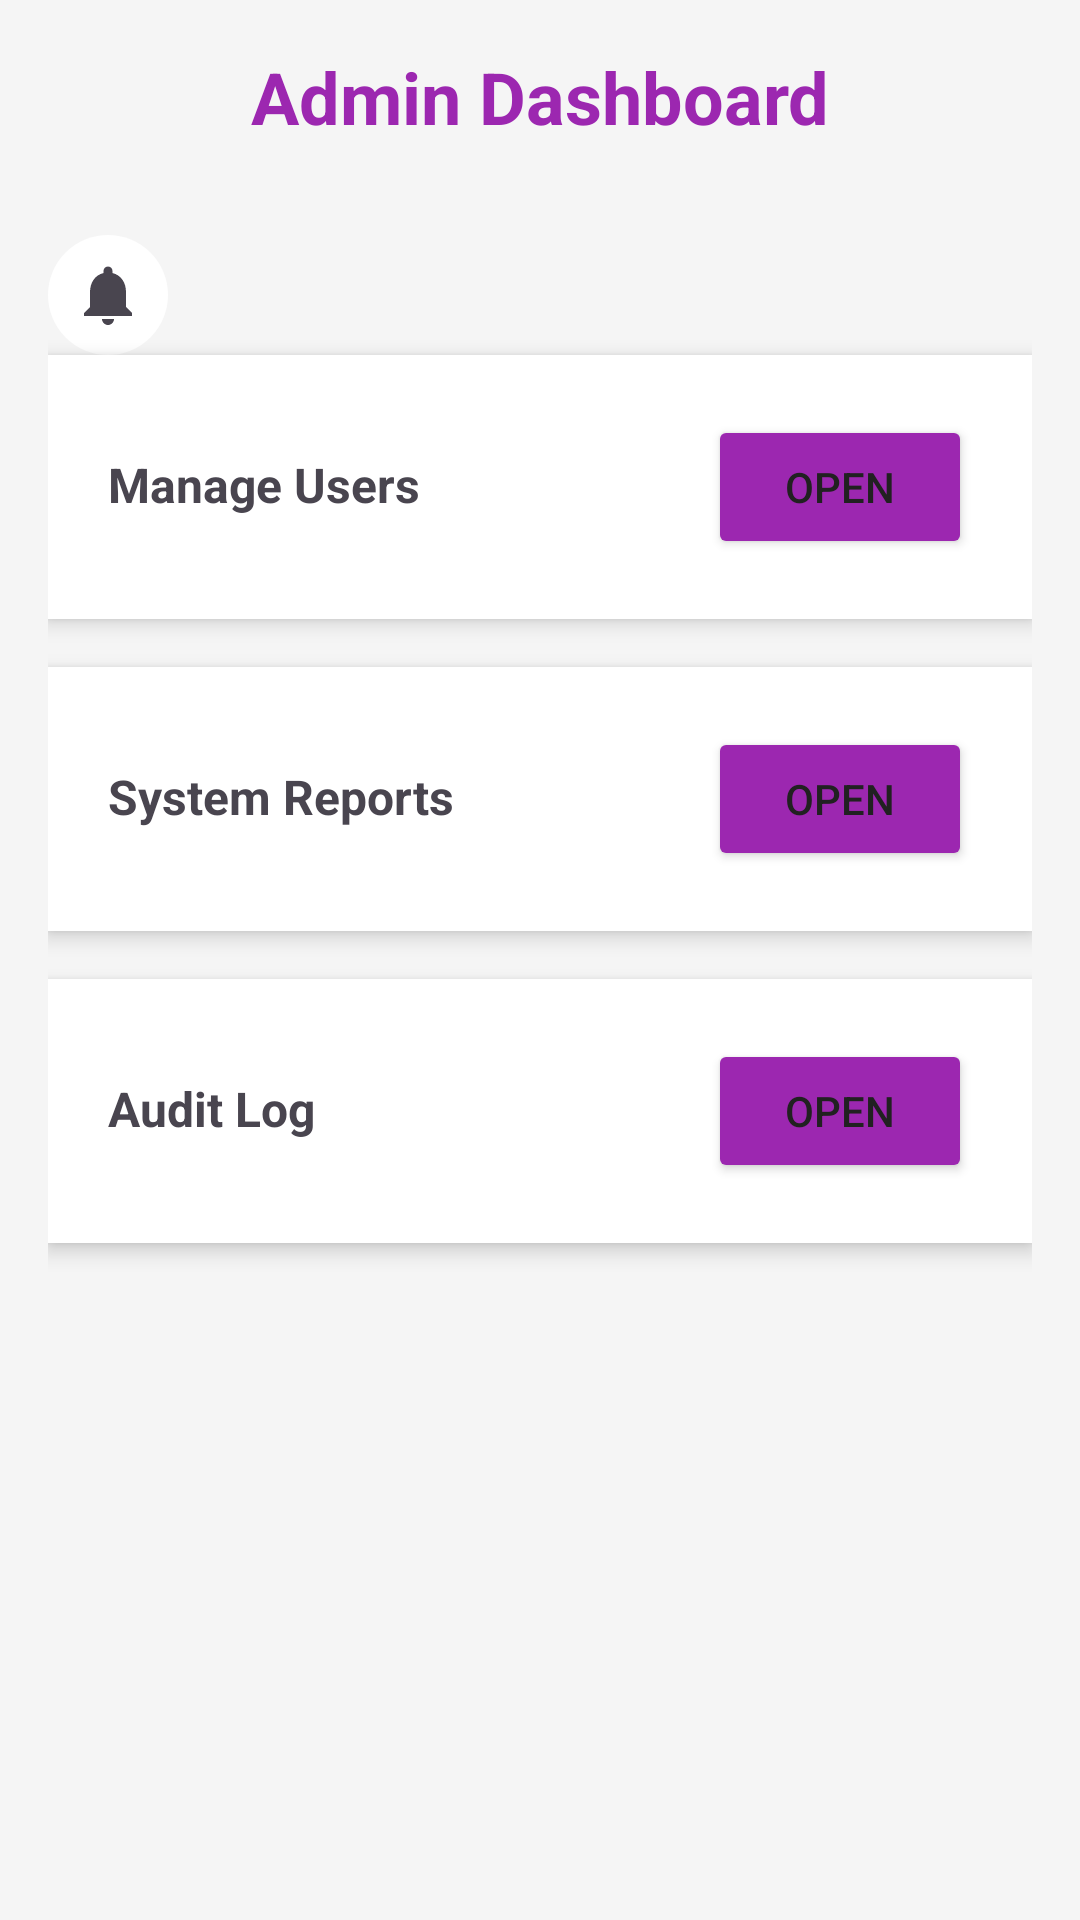

Icons on this 1080w x 1920h Android screen, each with the point to tap as (x=x, y=y):
Notifications: (x=108, y=295)
